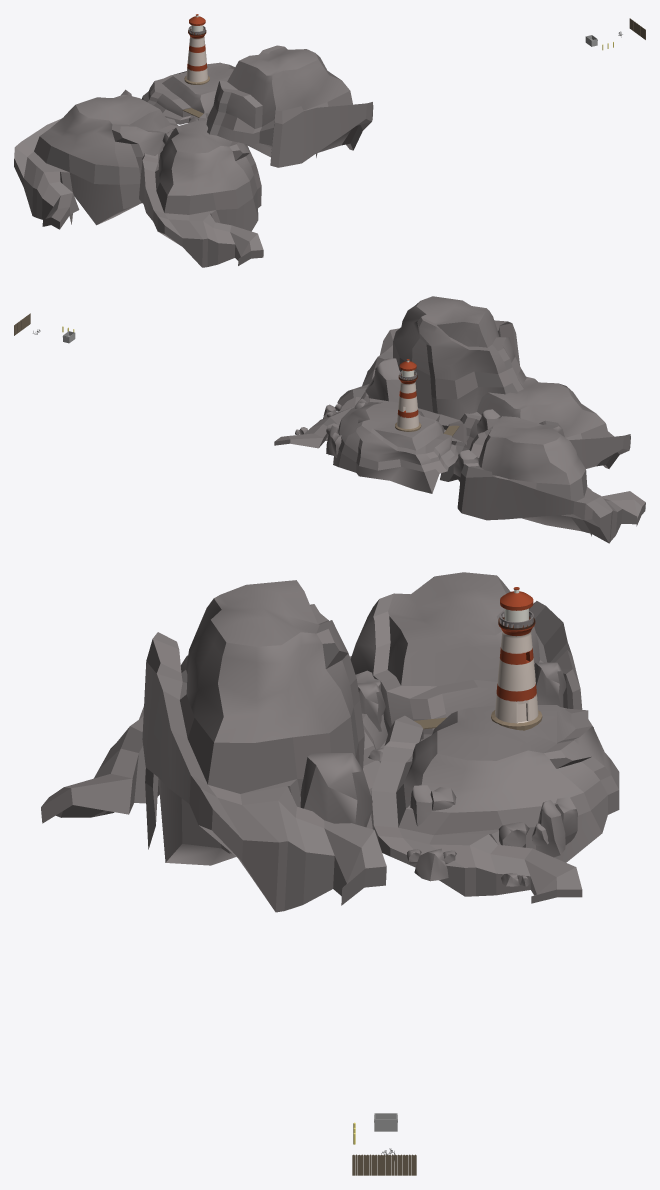
The model's file is props and details.fbx.
3 views of the same model, one above another, from view 1: azimuth 30°, elevation 25°; view 2: azimuth 150°, elevation 25°; view 3: azimuth 270°, elevation 25° (orthographic). The views are drawn at different scales.
Visible parts, largest first — view 1: rocks1, lighthouse2; view 2: rocks1, lighthouse2; view 3: rocks1, lighthouse2, fence.
Boxes of the visible parts, box(x1,y1,x2,y2) form: rocks1: box(14, 45, 373, 267); lighthouse2: box(184, 14, 209, 84); rocks1: box(274, 296, 645, 543); lighthouse2: box(395, 359, 421, 431); rocks1: box(41, 572, 619, 912); lighthouse2: box(491, 587, 542, 730); fence: box(352, 1154, 416, 1175).
Size of the model in its own units: 251 by 65.12 by 105.
